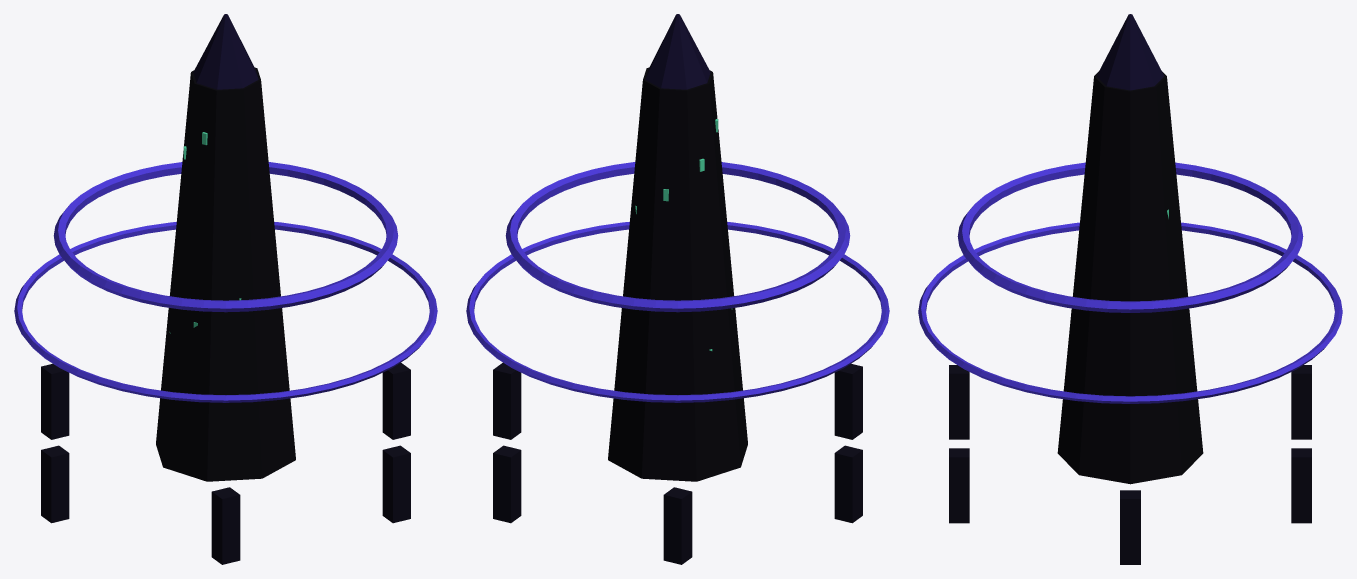
File: relic.glb
The picture shows the model from 3 angles, left to right: view 1: azimuth 30°, elevation 25°; view 2: azimuth 150°, elevation 25°; view 3: azimuth 270°, elevation 25°; orthographic projection.
Parts seen in each view (by area): view 1: relic; view 2: relic; view 3: relic.
Part boxes in pixels (x1,y1,x2,y2): relic: (14,14,437,564); relic: (466,14,889,564); relic: (918,14,1342,564).
Bounding box in the file's own units: 1.4 × 1.68 × 1.4.
